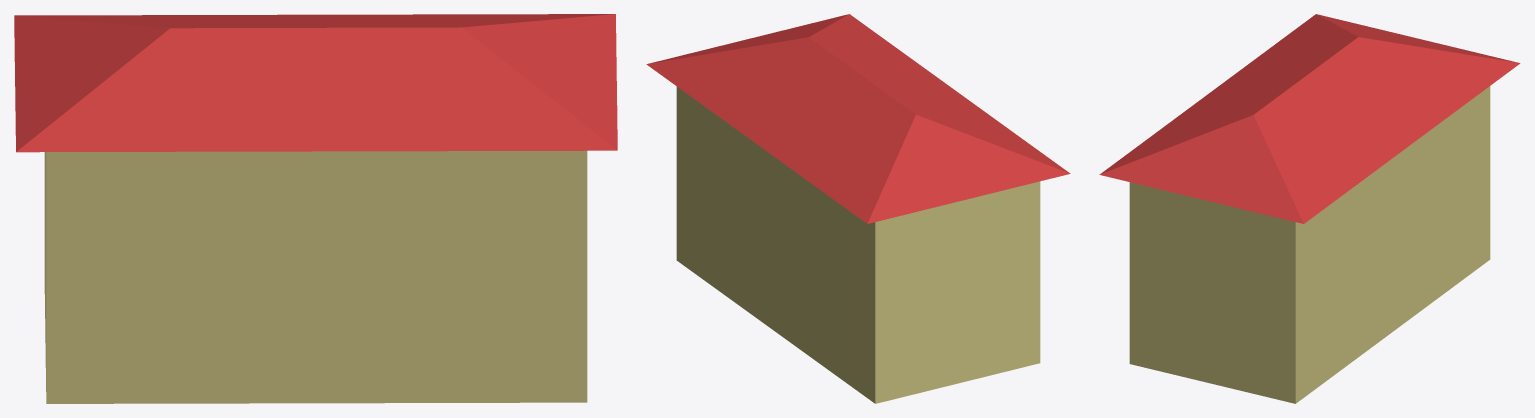
The picture shows the model from 3 angles, left to right: view 1: azimuth 30°, elevation 25°; view 2: azimuth 150°, elevation 25°; view 3: azimuth 270°, elevation 25°; orthographic projection. The views are drawn at different scales.
Visible parts, largest first — view 1: group_5, group_3, group_4; view 2: group_5, group_3, group_4; view 3: group_5, group_3, group_4.
Part boxes in pixels (left/top/right/bottom): group_5: left=44, top=150, right=587, bottom=403; group_3: left=14, top=14, right=617, bottom=152; group_4: left=14, top=14, right=617, bottom=152; group_5: left=676, top=86, right=1040, bottom=403; group_3: left=646, top=14, right=1039, bottom=223; group_4: left=648, top=14, right=1070, bottom=223; group_5: left=1129, top=86, right=1490, bottom=403; group_3: left=1099, top=18, right=1519, bottom=223; group_4: left=1101, top=14, right=1518, bottom=223.
Size of the model in its own units: 22.44 by 19.02 by 11.69.
